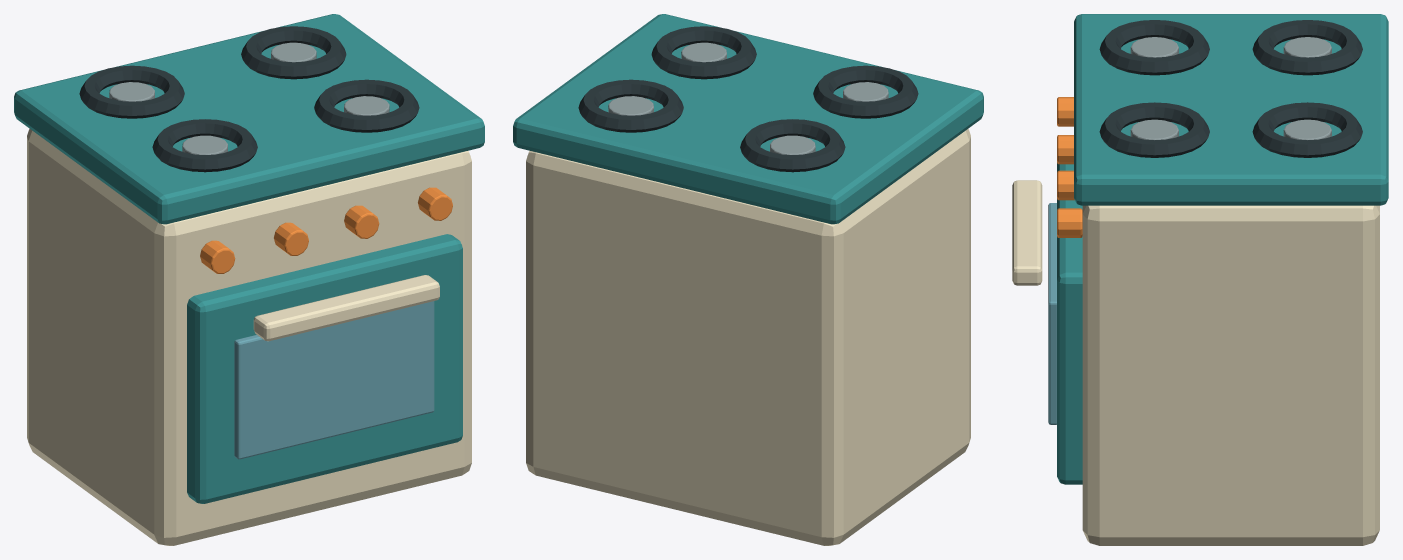
File: S043_kitchen_stove.glb
3 views of the same model, side by side, from view 1: azimuth 30°, elevation 25°; view 2: azimuth 150°, elevation 25°; view 3: azimuth 270°, elevation 25° (orthographic). The views are drawn at different scales.
Visible parts, largest first — view 1: stove_body, cooktop, oven_door, oven_window, oven_pull, burner, burner.001, burner.002, burner.003, stove_knob.002, stove_knob.001, stove_knob.003 (+5 smaller); view 2: stove_body, cooktop, burner.001, burner, burner.003, burner.002, burner_center, burner_center.003, burner_center.002, burner_center.001; view 3: stove_body, cooktop, oven_door, burner.002, burner.003, burner, burner.001, oven_pull, oven_window, burner_center.001, burner_center, burner_center.002 (+5 smaller).
Part boxes in pixels (x1,y1,x2,y2): stove_body: (27, 128, 471, 545); cooktop: (14, 14, 484, 224); oven_door: (187, 234, 462, 503); oven_window: (234, 301, 434, 459); oven_pull: (253, 275, 439, 341); burner: (152, 119, 257, 172); burner.001: (79, 65, 184, 118); burner.002: (314, 79, 419, 132); burner.003: (241, 26, 346, 79); stove_knob.002: (344, 205, 379, 238); stove_knob.001: (274, 222, 308, 255); stove_knob.003: (418, 187, 452, 220); stove_body: (526, 128, 970, 545); cooktop: (513, 14, 983, 224); burner.001: (740, 119, 845, 172); burner: (813, 65, 918, 118); burner.003: (578, 79, 683, 132); burner.002: (651, 26, 756, 79); burner_center: (843, 82, 888, 101); burner_center.003: (608, 96, 653, 115); burner_center.002: (681, 42, 726, 62); burner_center.001: (770, 135, 815, 154); stove_body: (1082, 205, 1379, 545); cooktop: (1074, 14, 1388, 205); oven_door: (1057, 163, 1082, 484); burner.002: (1099, 102, 1209, 157); burner.003: (1252, 102, 1362, 157); burner: (1099, 20, 1209, 75); burner.001: (1252, 20, 1362, 75); oven_pull: (1012, 180, 1042, 285); oven_window: (1048, 203, 1056, 424); burner_center.001: (1283, 37, 1331, 57); burner_center: (1130, 37, 1178, 57); burner_center.002: (1130, 119, 1178, 139).
Bounding box in the file's own units: 0.93 × 1.01 × 0.885.
